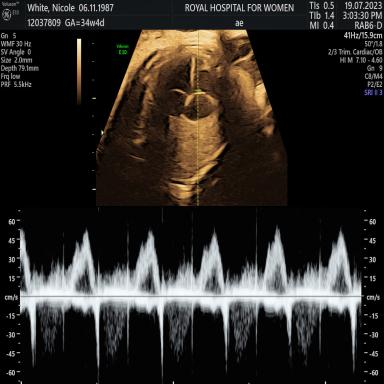Ultrasound-Waves: (25, 209, 358, 384)
